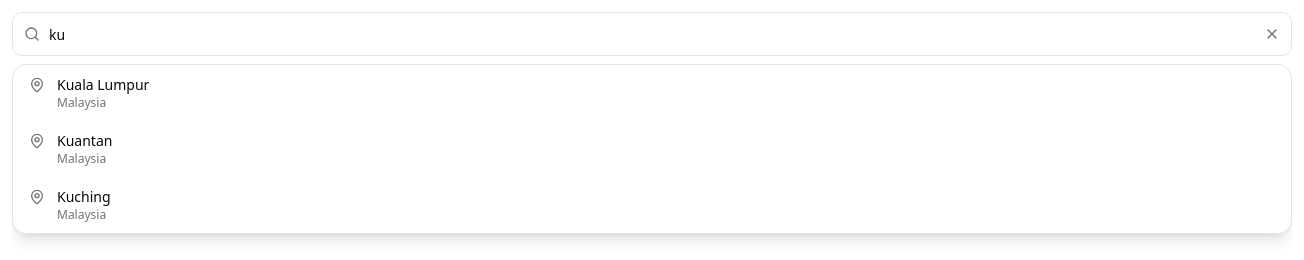
Scenario: PlaceAutocompleteInput › closes the dropdown on a pointer down outside it
Click the element showing "Kuala Lumpur Malaysia Kuantan Malaysia Kuching Malaysia". click: (652, 34)
box: [12, 12, 1292, 56]
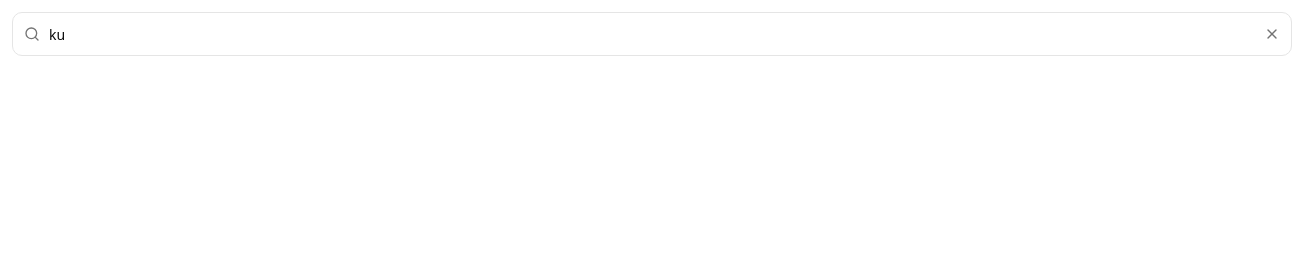
Expected: the list is gone
